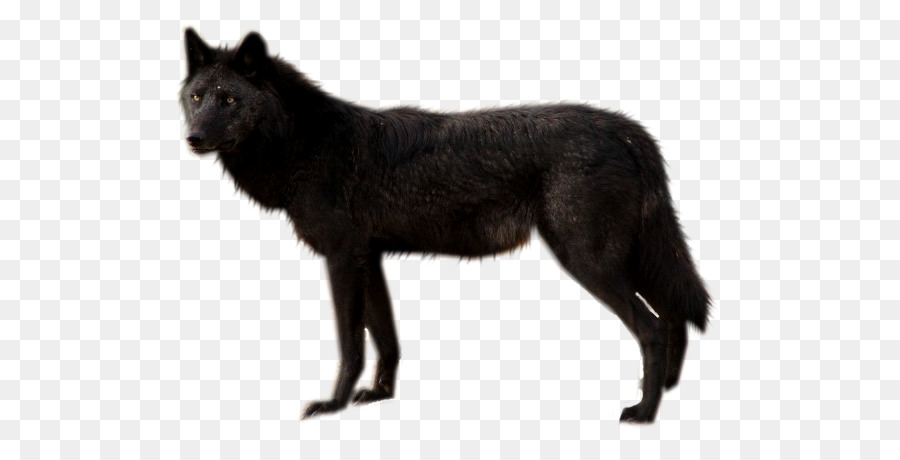Lobo: (154, 16, 710, 435)
